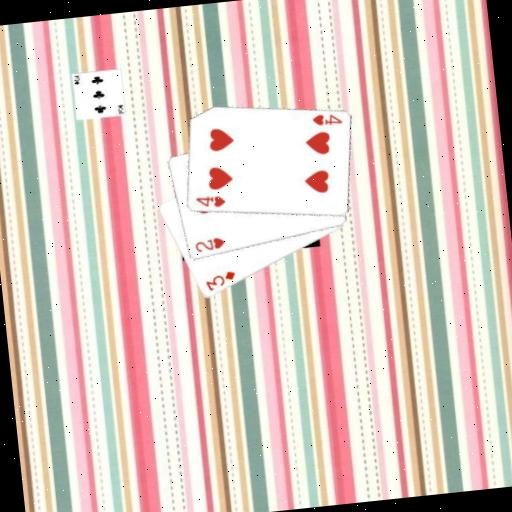2H: (191, 235, 227, 255)
3D: (201, 267, 238, 294)
4H: (308, 109, 344, 129), (193, 191, 228, 211)
